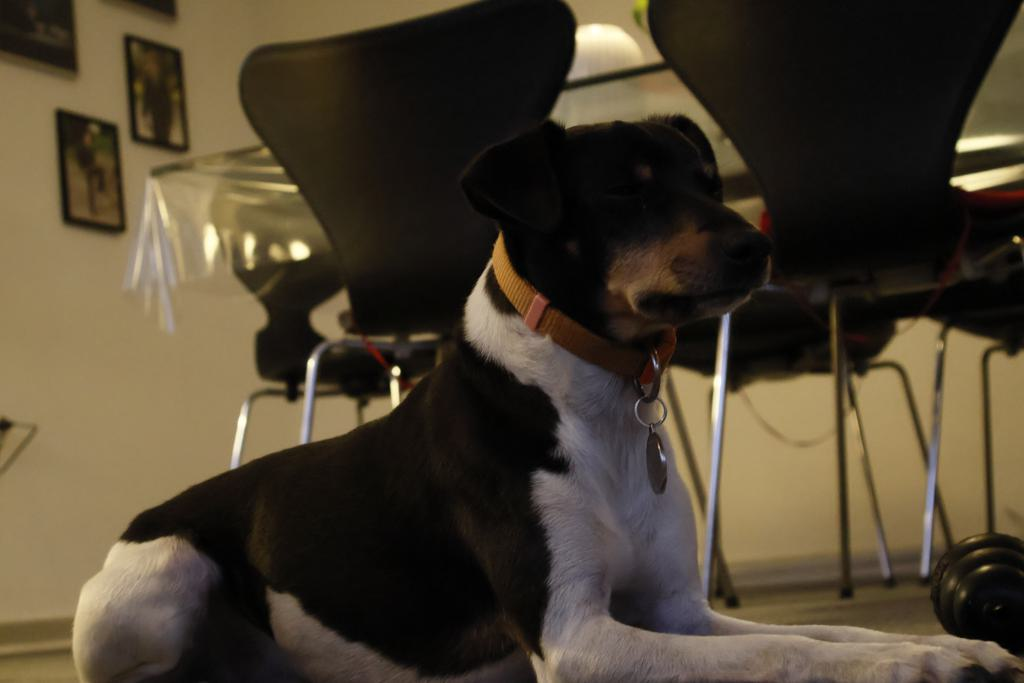Dog: (67, 96, 1024, 683)
